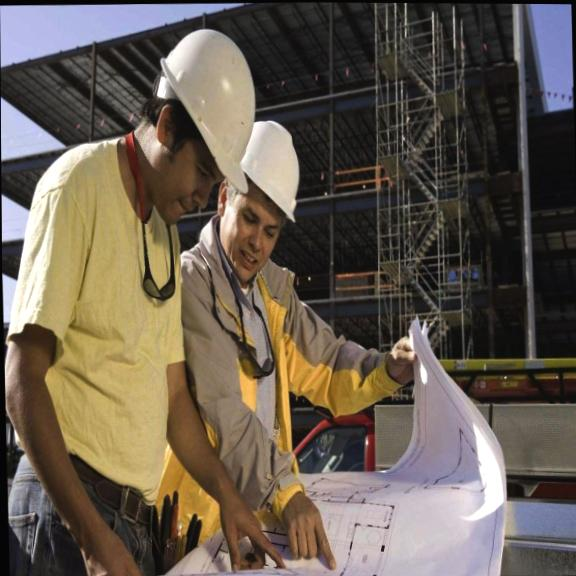no_safety_vest: (4, 139, 194, 515), (174, 239, 335, 557)
safety_vest: (143, 22, 260, 231), (217, 116, 305, 285)
